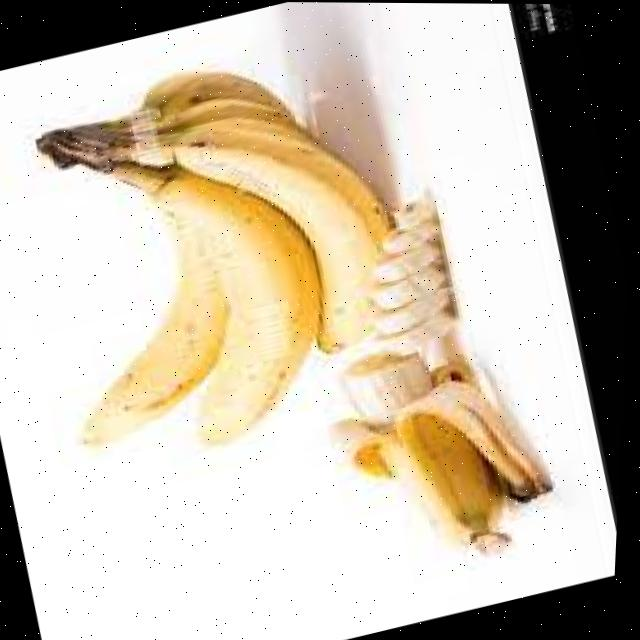Banana: (145, 71, 389, 351), (116, 163, 322, 444), (89, 276, 228, 441)
